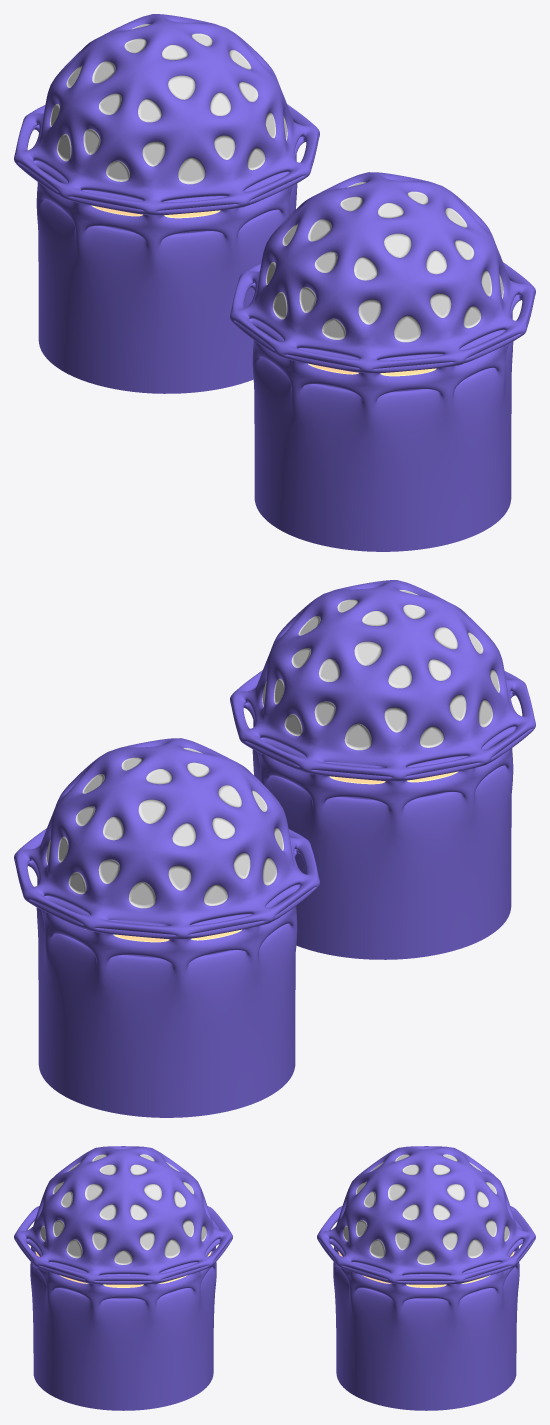
Rendered from duomos-grandesfbx.fbx.
3 views of the same model, one above another, from view 1: azimuth 30°, elevation 25°; view 2: azimuth 150°, elevation 25°; view 3: azimuth 270°, elevation 25° (orthographic). The views are drawn at different scales.
Parts seen in each view (by area): view 1: Icosphere; view 2: Icosphere; view 3: Icosphere.
Part boxes in pixels (bbox=[...]): Icosphere: bbox=[14, 14, 535, 551]; Icosphere: bbox=[14, 580, 535, 1117]; Icosphere: bbox=[14, 1146, 535, 1410].
Bounding box in the file's own units: 694 × 808 × 1732.
